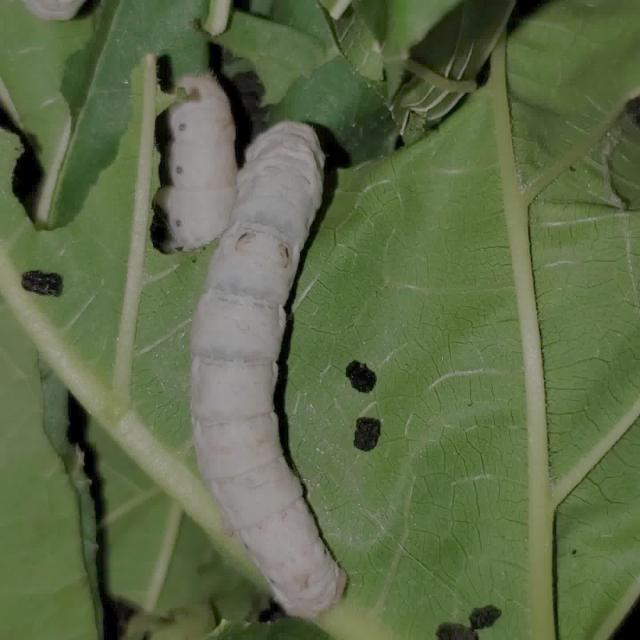Healthy: (174, 82, 373, 631)
